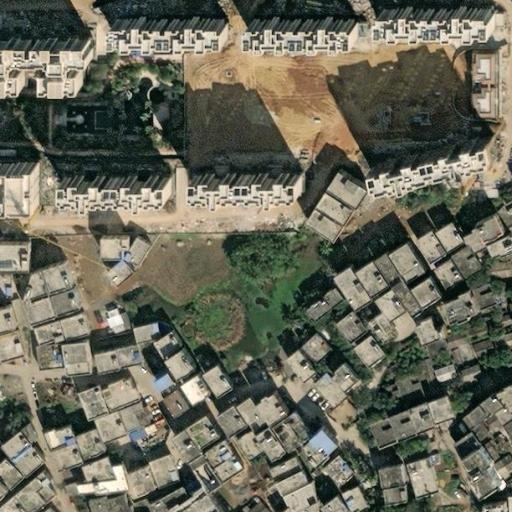building: (378, 140, 501, 189), (300, 162, 373, 243), (79, 177, 190, 205), (197, 176, 308, 204), (388, 399, 454, 443), (118, 20, 232, 44), (384, 9, 497, 33), (254, 22, 363, 43), (59, 101, 117, 134), (0, 163, 44, 205), (469, 454, 505, 504), (0, 428, 39, 474), (207, 442, 245, 486), (77, 468, 128, 500), (335, 269, 372, 311), (240, 401, 275, 441), (355, 262, 390, 300), (406, 460, 438, 501), (408, 226, 443, 263), (96, 378, 135, 411), (193, 419, 228, 455), (262, 398, 296, 433), (306, 372, 340, 407), (261, 431, 294, 467), (388, 245, 421, 281), (299, 284, 334, 317), (91, 340, 136, 365), (38, 256, 71, 290), (93, 412, 127, 445), (395, 286, 426, 322), (177, 433, 209, 467), (378, 293, 410, 327), (73, 384, 104, 419), (429, 218, 461, 251), (364, 418, 394, 453), (354, 339, 386, 371), (224, 410, 255, 443), (281, 346, 312, 379), (197, 464, 227, 498), (270, 458, 306, 486), (320, 457, 351, 489), (168, 351, 199, 383), (67, 424, 98, 456), (18, 264, 47, 298), (411, 276, 442, 307), (239, 432, 269, 464), (362, 311, 392, 343), (22, 289, 54, 319), (250, 464, 279, 497), (470, 86, 499, 119), (375, 255, 403, 289), (278, 472, 313, 499), (473, 209, 503, 240), (148, 456, 176, 489), (148, 489, 188, 512), (227, 476, 257, 506), (335, 315, 365, 345), (446, 246, 475, 277), (286, 485, 319, 512), (82, 459, 116, 485), (432, 261, 461, 291), (44, 438, 76, 465), (409, 358, 430, 399), (294, 333, 323, 362), (183, 376, 212, 405), (461, 406, 491, 434), (15, 486, 47, 512), (129, 470, 157, 499), (470, 59, 499, 87), (200, 365, 228, 394), (48, 305, 78, 332), (126, 238, 152, 269), (260, 487, 292, 512), (302, 443, 329, 472), (170, 393, 197, 421), (440, 297, 467, 325), (39, 422, 69, 446), (102, 260, 129, 286), (33, 346, 59, 373), (98, 233, 126, 258), (488, 398, 512, 427), (24, 313, 54, 336), (411, 317, 436, 343), (485, 237, 512, 261), (156, 334, 183, 358), (454, 435, 479, 460), (330, 363, 355, 388), (318, 434, 344, 458), (90, 498, 134, 512), (481, 330, 509, 352), (130, 323, 159, 344), (459, 338, 486, 360), (62, 341, 89, 363), (31, 481, 55, 505), (383, 487, 408, 508), (422, 363, 448, 383), (0, 327, 17, 357), (459, 225, 481, 248), (380, 471, 405, 491), (447, 364, 473, 383), (447, 343, 466, 369), (382, 382, 401, 405), (63, 359, 91, 374), (39, 476, 59, 496), (495, 192, 512, 215), (496, 421, 512, 445), (475, 293, 493, 313), (442, 423, 461, 441), (152, 370, 171, 388), (490, 453, 508, 471), (180, 477, 199, 493), (481, 313, 500, 329), (499, 344, 512, 366), (486, 267, 505, 282), (0, 304, 12, 327), (194, 458, 211, 474), (318, 481, 333, 496), (97, 313, 113, 327), (502, 393, 512, 414), (458, 293, 470, 307), (500, 301, 512, 314), (504, 498, 512, 512), (504, 266, 512, 279), (503, 310, 512, 321), (0, 270, 3, 295), (508, 371, 512, 382)
